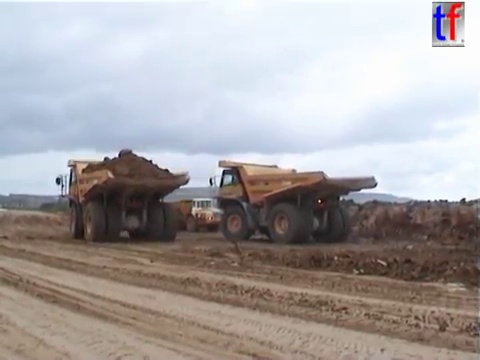truck: (208, 158, 381, 246), (54, 158, 192, 244), (136, 196, 225, 234)
